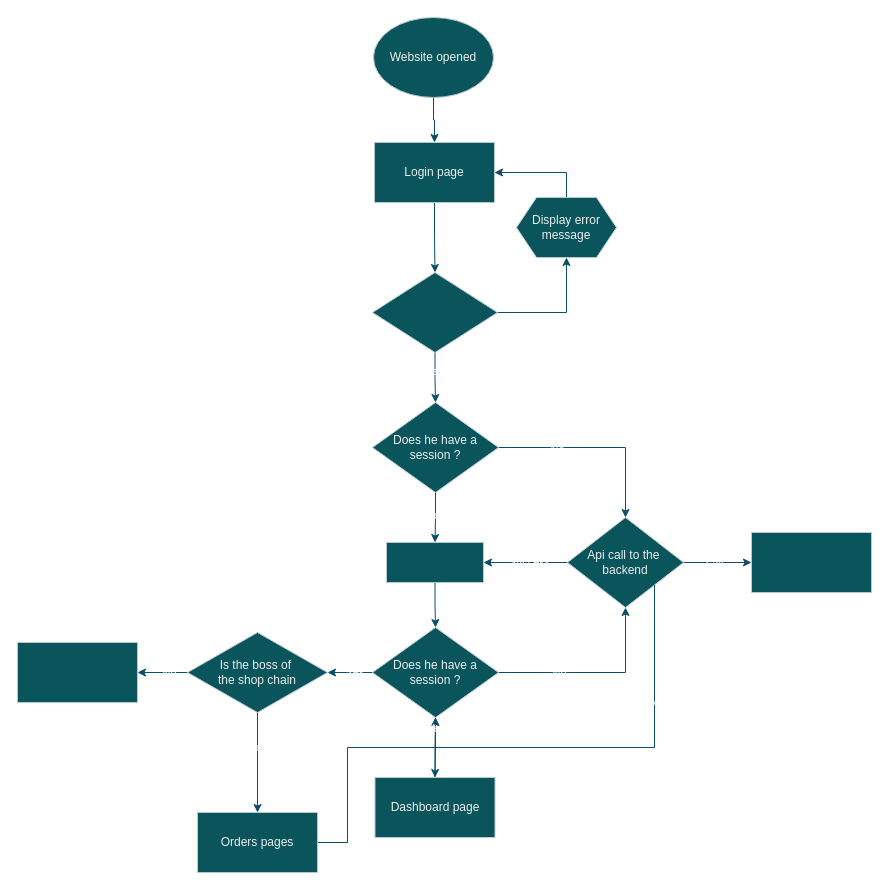
Some shapes in this 889 by 890 pixel diagram are drawn without their labels. The centre of each missing label's shape, as x and y in pixels:
Authenticated ?: (435,312)
Error page (access refused): (77,672)
Error page (user not connected): (811,562)
Home page: (435,562)
